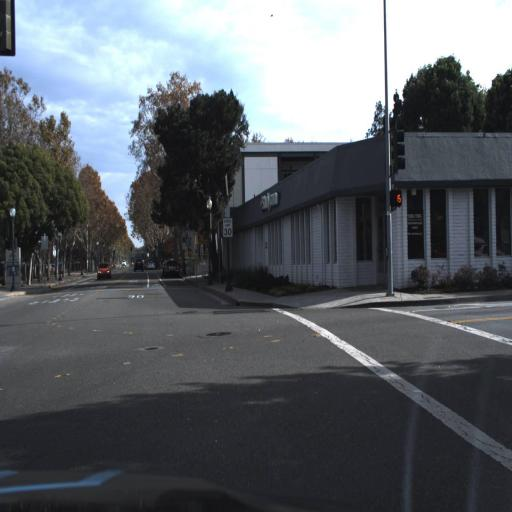car: (158, 253, 185, 280), (160, 253, 180, 279), (97, 262, 110, 281), (134, 256, 144, 272)
